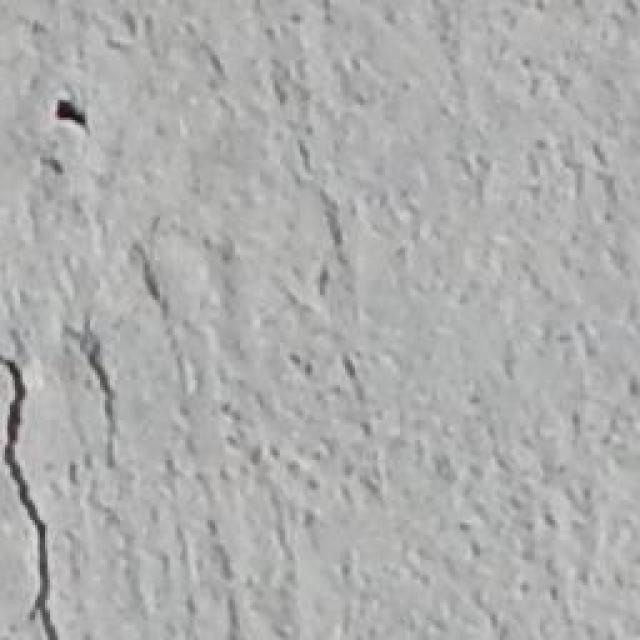concrete-crack: (2, 343, 69, 640)
